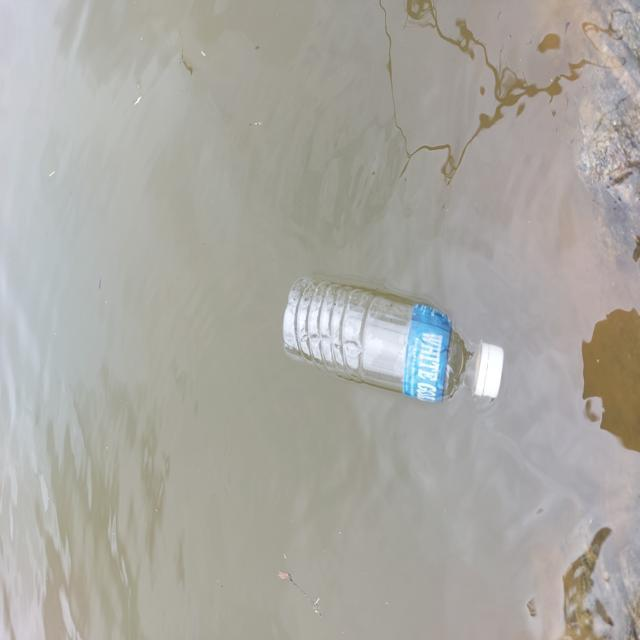waterbottle: (272, 271, 505, 408)
